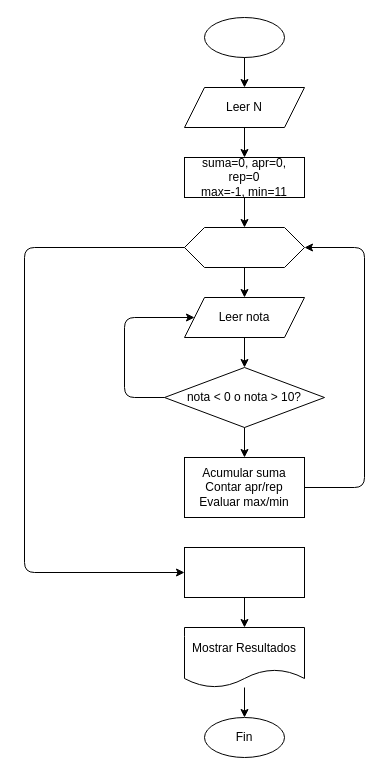
Image size: 390x775. Some labels were removed from this diagram. The shapes that lost their labels are listed below. From the top down, each one's box as (x1, y1, x2, y2) in pixels, then its label:
(204, 16, 284, 58): Inicio
(184, 226, 304, 268): Para i = 1 hasta N
(184, 546, 304, 598): Calcular Promedio y Porcentajes
